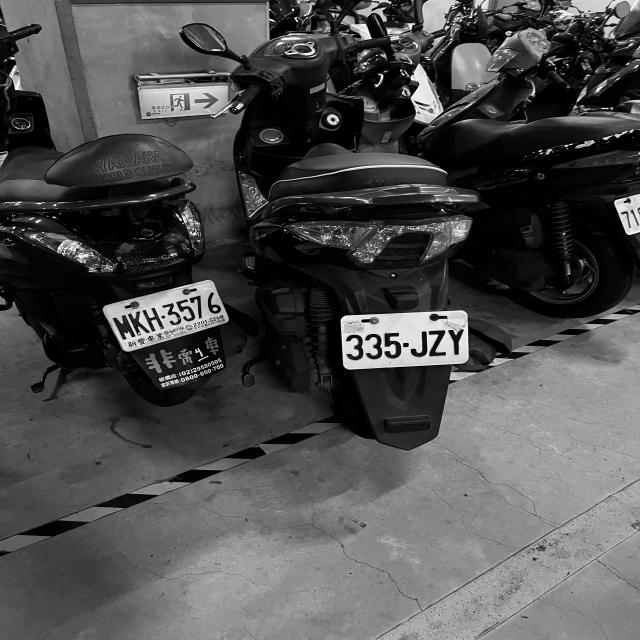-: (402, 340, 409, 348), (160, 314, 167, 320)
1: (629, 207, 640, 227)
3: (344, 333, 364, 361), (161, 302, 183, 327), (364, 332, 382, 360)
5: (382, 328, 402, 359), (174, 298, 198, 323)
6: (204, 291, 225, 316)
7: (188, 292, 209, 319), (619, 209, 635, 231)
H: (140, 306, 165, 332)
J: (411, 329, 428, 356)
K: (126, 309, 151, 337)
M: (111, 313, 137, 341)
Y: (448, 328, 466, 356)
Z: (428, 329, 447, 356)
plate: (103, 279, 230, 351), (342, 316, 469, 366)
